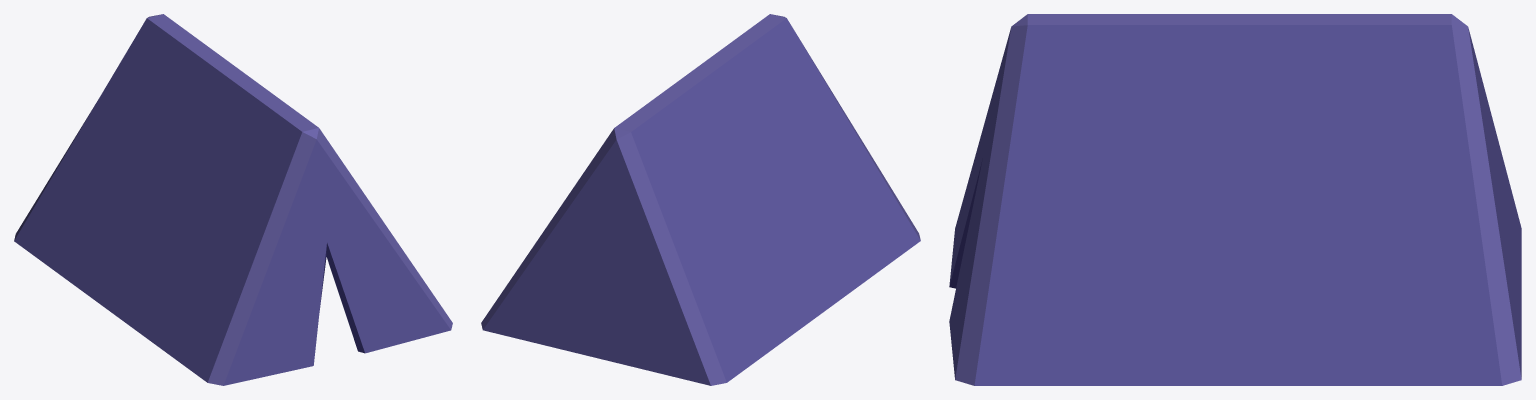
The model's file is RW_HG_Build_Tent.002.fbx.
3 renders of one model, left to right at view 1: azimuth 30°, elevation 25°; view 2: azimuth 150°, elevation 25°; view 3: azimuth 270°, elevation 25°, orthographic. The views are drawn at different scales.
Visible parts, largest first — view 1: WW_HG_Build_Tent.002; view 2: WW_HG_Build_Tent.002; view 3: WW_HG_Build_Tent.002.
Boxes of the visible parts, x1,y1,x2,y2 form: WW_HG_Build_Tent.002: [14, 14, 452, 385]; WW_HG_Build_Tent.002: [481, 14, 920, 385]; WW_HG_Build_Tent.002: [949, 14, 1521, 385].
Bounding box in the file's own units: 0.5842 × 0.4752 × 0.8655.
